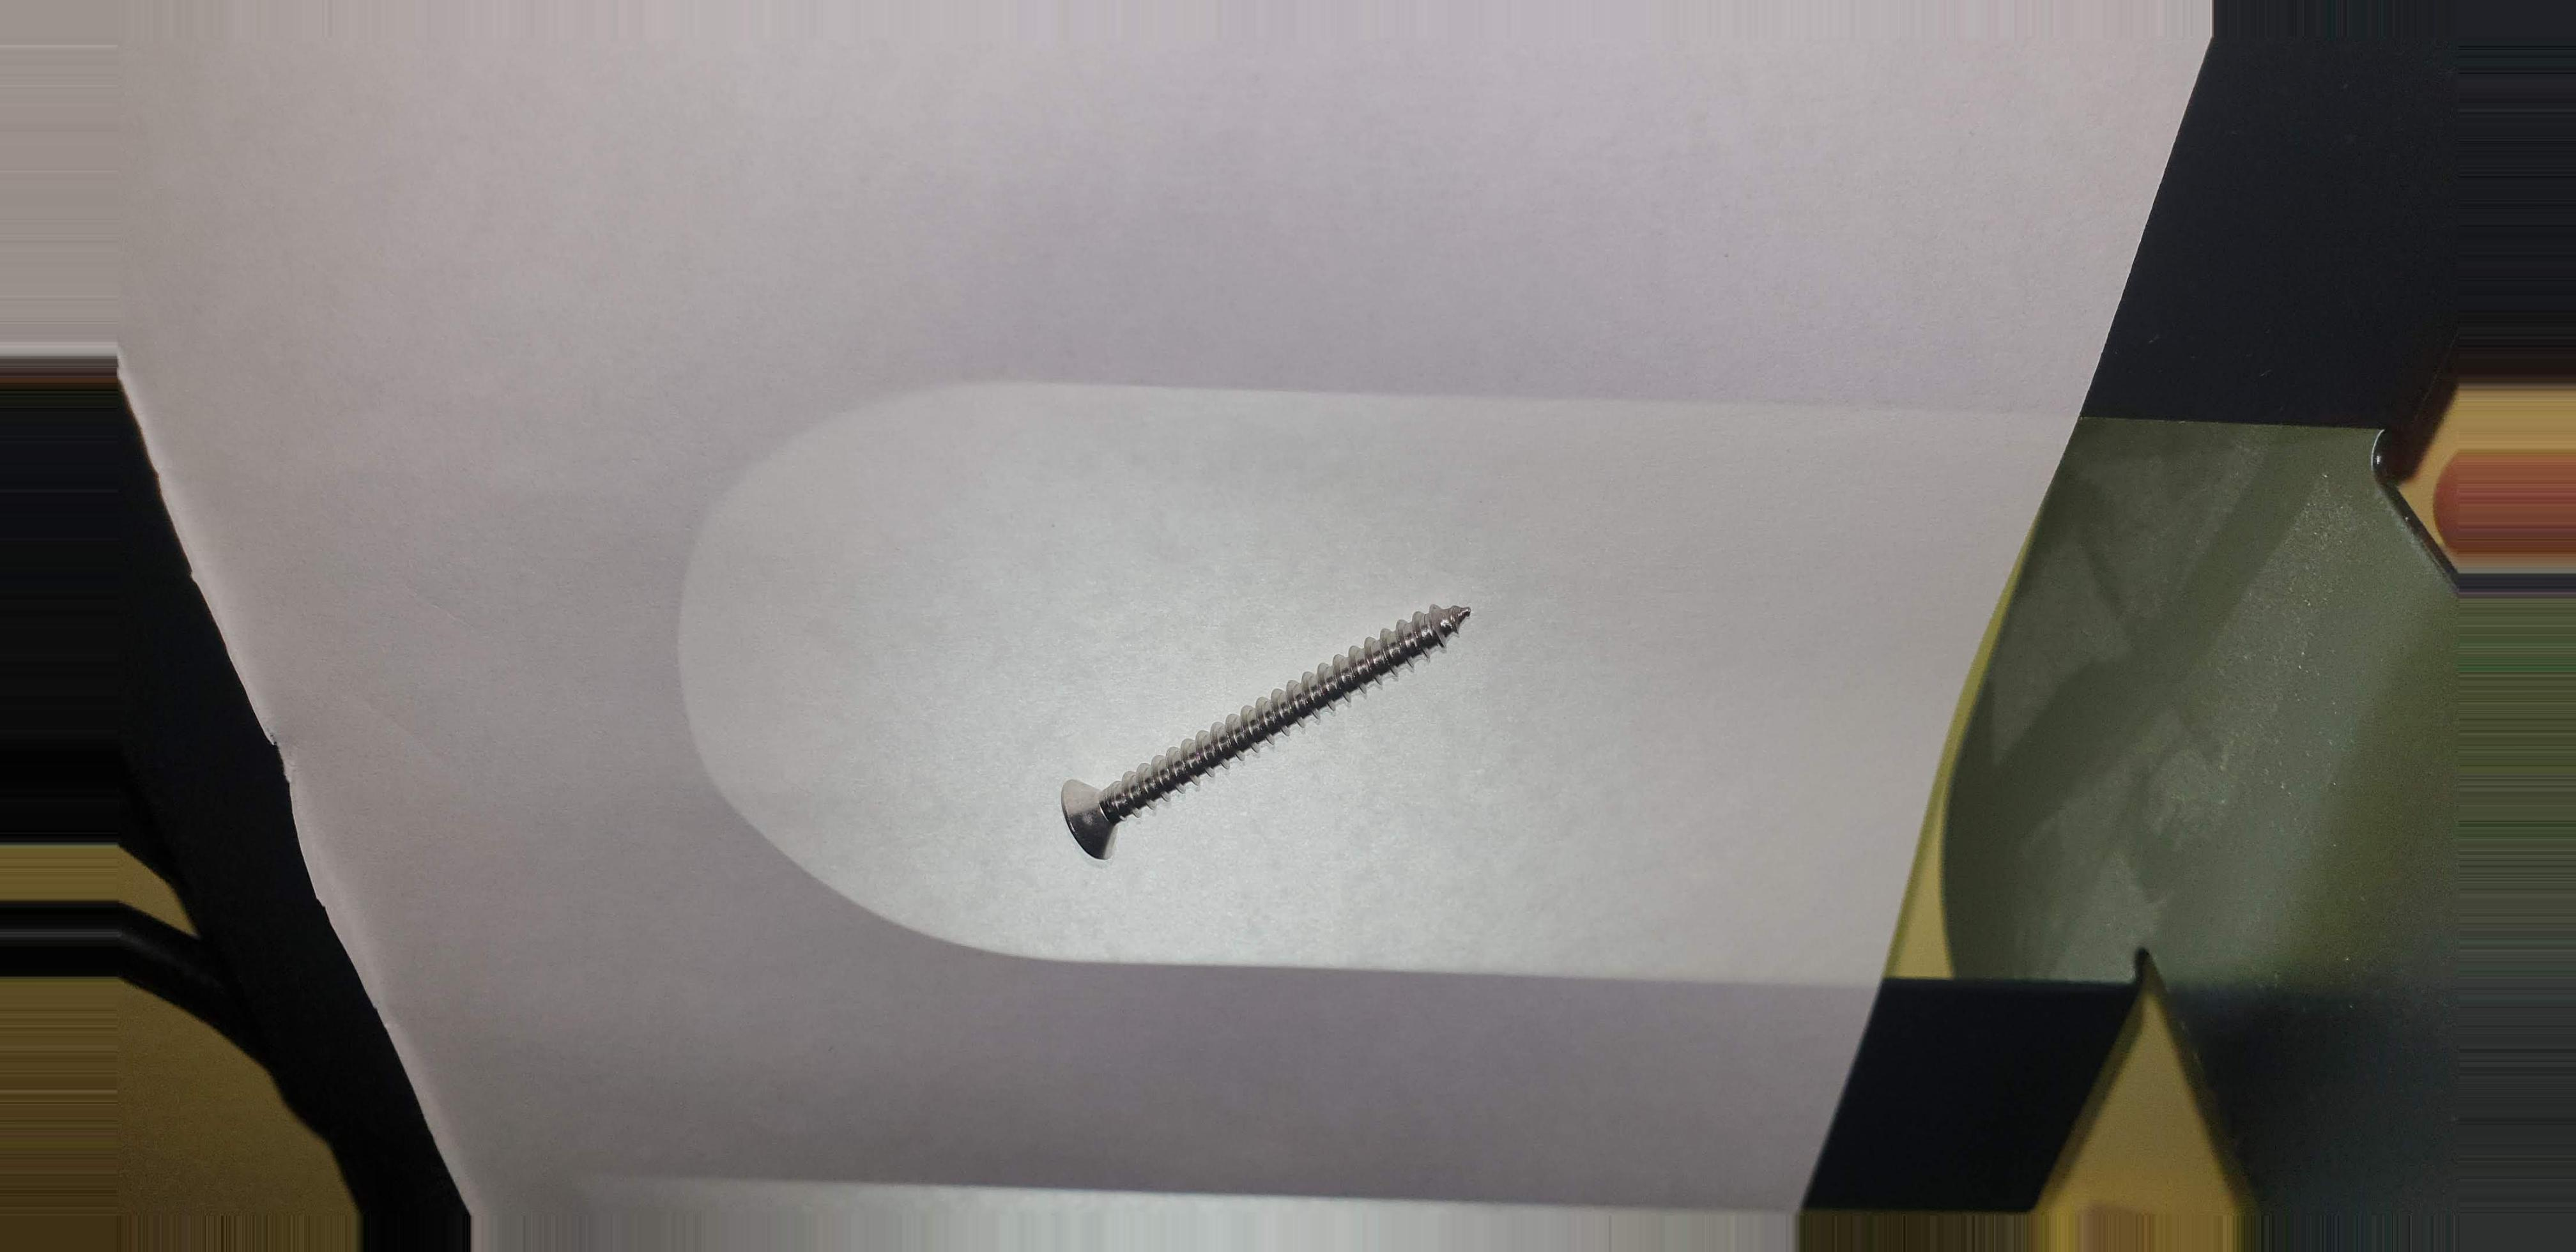fastener: (1027, 554, 1525, 887)
